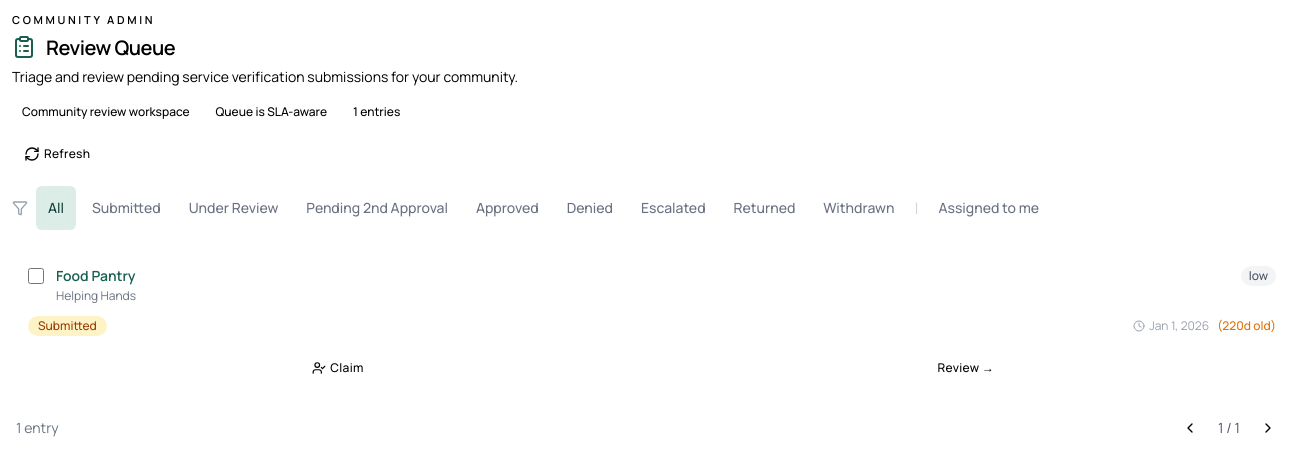
Test: community admin queue page › filters by status tabs and renders empty state messaging
Step 1. Click the tab "Approved" → (507, 208), box [464,186,551,230]
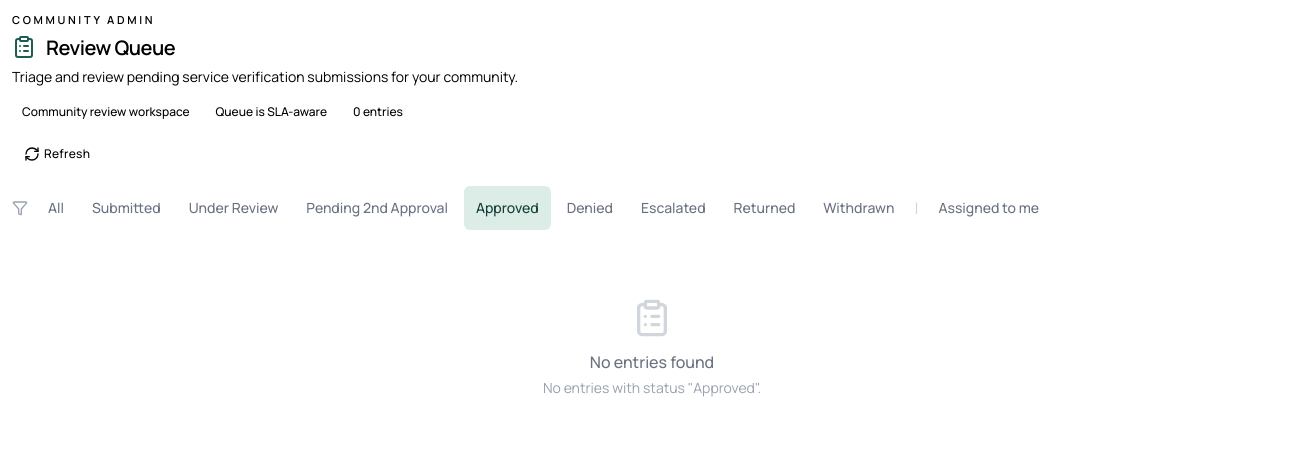
Expected: the text "No entries found" is shown, [590,350,714,374]
Expected: the text "No entries with status \"Approved\"." is shown, [543,378,761,398]
